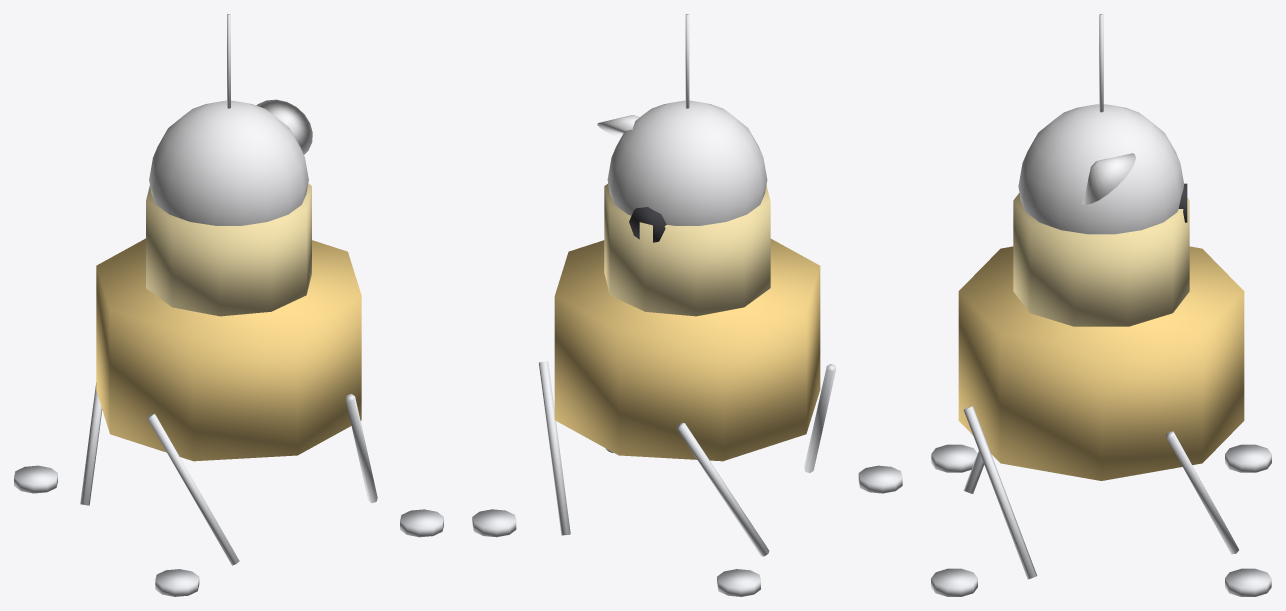
Rendered from lander.glb.
3 renders of one model, left to right at view 1: azimuth 30°, elevation 25°; view 2: azimuth 150°, elevation 25°; view 3: azimuth 270°, elevation 25°, orthographic. The views are drawn at different scales.
Parts seen in each view (by area): view 1: lander_desc, lander_dome, lander_asc, lander_leg2, lander_dish, lander_leg3, lander_leg1, lander_pad2, lander_pad1, lander_pad3; view 2: lander_desc, lander_dome, lander_asc, lander_leg0, lander_leg1, lander_leg2, lander_pad0, lander_pad2, lander_pad1, lander_win; view 3: lander_desc, lander_asc, lander_dome, lander_leg3, lander_dish, lander_leg0, lander_pad0, lander_pad3, lander_pad1, lander_pad2, lander_ant.
Part boxes in pixels (box(x1,y1,x2,y2)): lander_desc: box(96, 238, 361, 461); lander_dome: box(149, 100, 308, 225); lander_asc: box(146, 183, 311, 316); lander_leg2: box(147, 413, 239, 565); lander_dish: box(256, 99, 312, 154); lander_leg3: box(345, 394, 377, 503); lander_leg1: box(80, 383, 102, 505); lander_pad2: box(155, 569, 199, 596); lander_pad1: box(14, 465, 57, 493); lander_pad3: box(400, 509, 443, 537); lander_desc: box(554, 239, 820, 461); lander_dome: box(607, 100, 767, 225); lander_asc: box(604, 183, 770, 316); lander_leg0: box(539, 361, 570, 535); lander_leg1: box(676, 422, 769, 556); lander_leg2: box(804, 364, 836, 472); lander_pad0: box(472, 509, 516, 537); lander_pad2: box(858, 465, 902, 493); lander_pad1: box(717, 569, 760, 596); lander_win: box(629, 207, 666, 242); lander_desc: box(958, 246, 1244, 480); lander_asc: box(1013, 193, 1189, 326); lander_dome: box(1018, 104, 1183, 234); lander_leg3: box(964, 406, 1037, 579); lander_dish: box(1082, 153, 1135, 204); lander_leg0: box(1165, 431, 1238, 554); lander_pad0: box(1225, 568, 1271, 596); lander_pad3: box(931, 568, 977, 596); lander_pad1: box(1225, 444, 1271, 472); lander_pad2: box(931, 444, 977, 472); lander_ant: box(1099, 14, 1103, 112).
Bounding box in the file's own units: 1.3 × 2.17 × 1.31.
